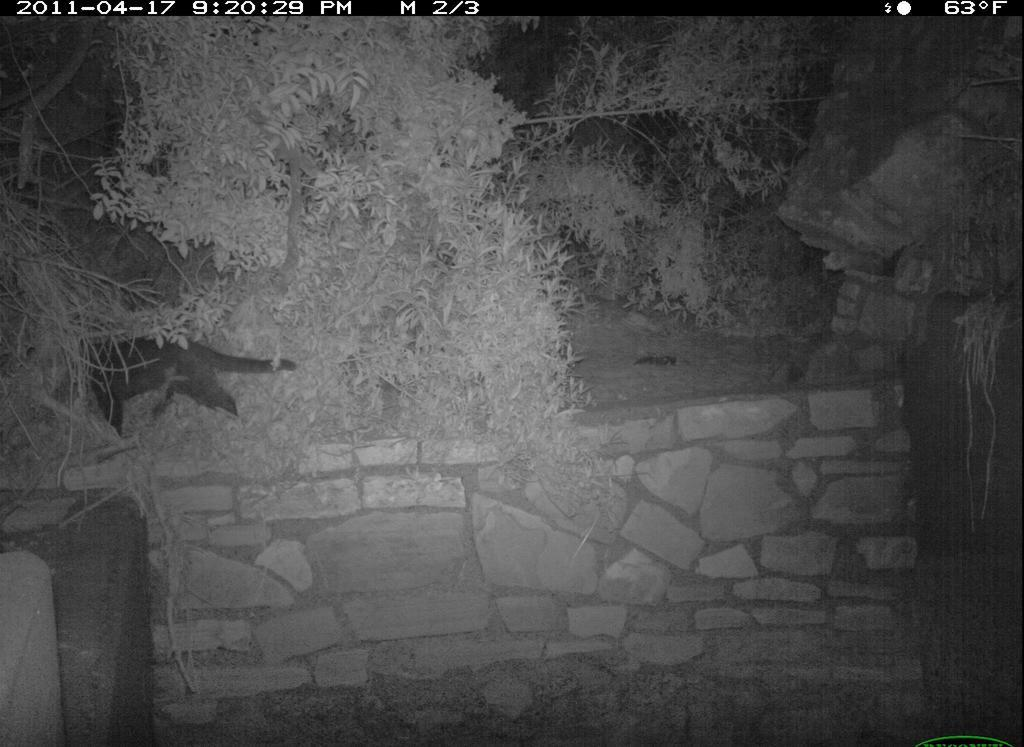cat: (44, 324, 297, 446)
